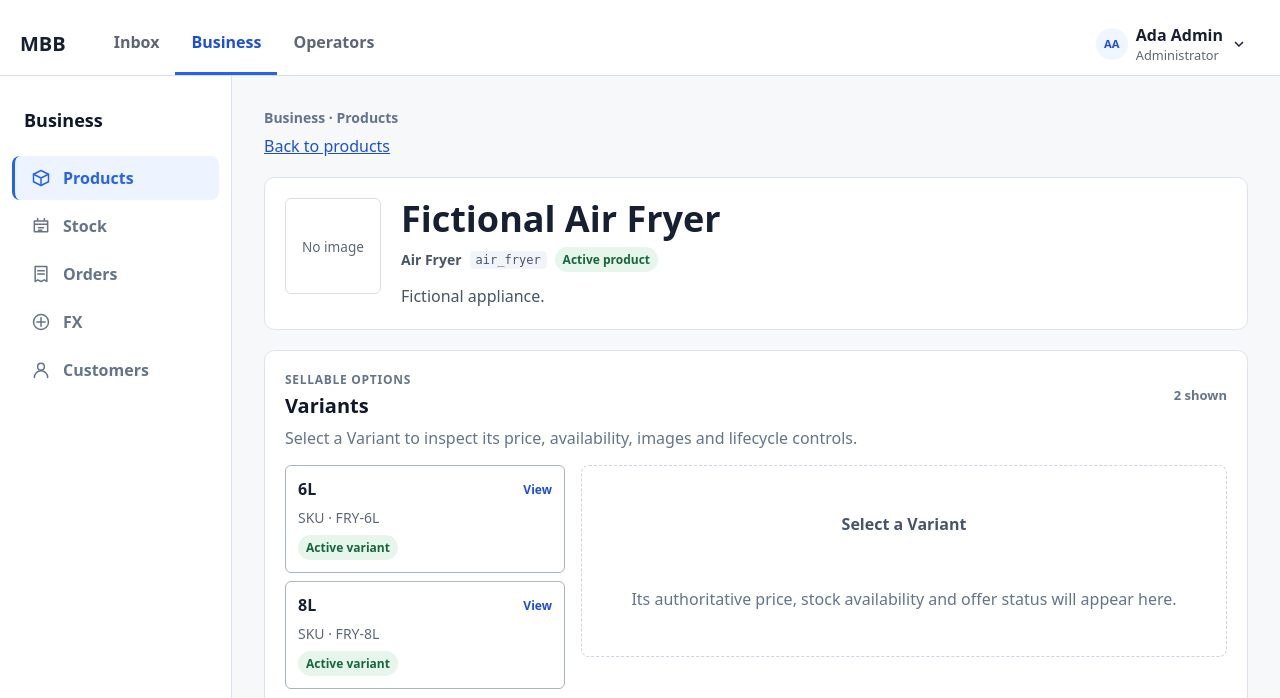
Test case: Product lifecycle controls › Deactivate affects only the selected variant and rereads its Offer
Click the button with aria-label "6L · FRY-6L". click: (339, 518)
box: [285,465,565,573]
(page scrolled)
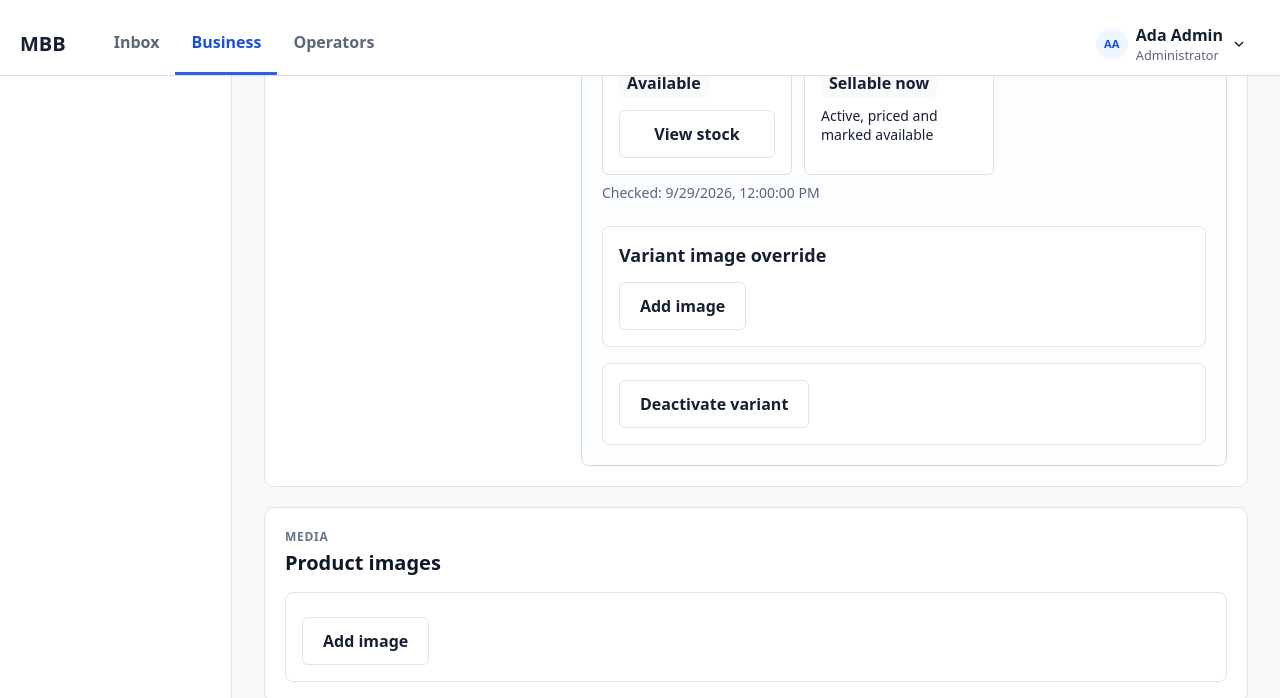
Click the button "Deactivate variant". click: (714, 404)
box: [619,380,809,428]
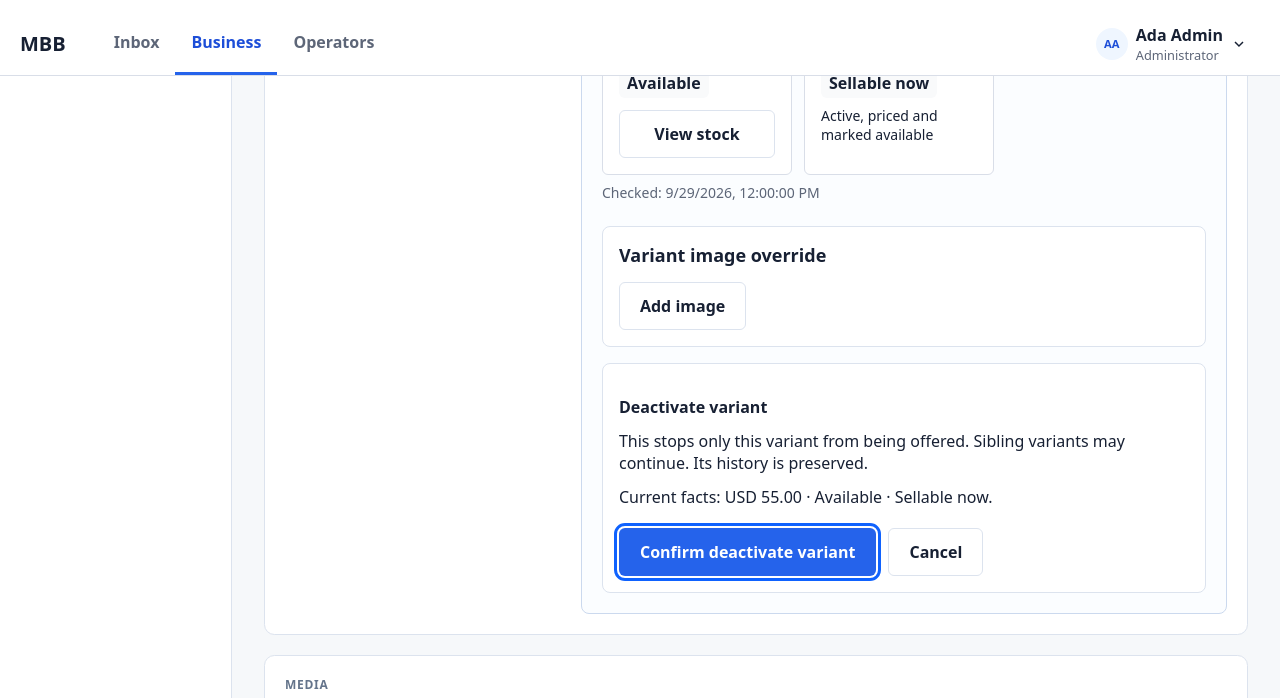
Check: the text "Current facts: USD 55.00 · Available · Sellable now." is shown, box [619,486,992,508]
Click the button "Confirm deactivate variant". click: (748, 552)
box: [619,528,876,576]
(page scrolled)
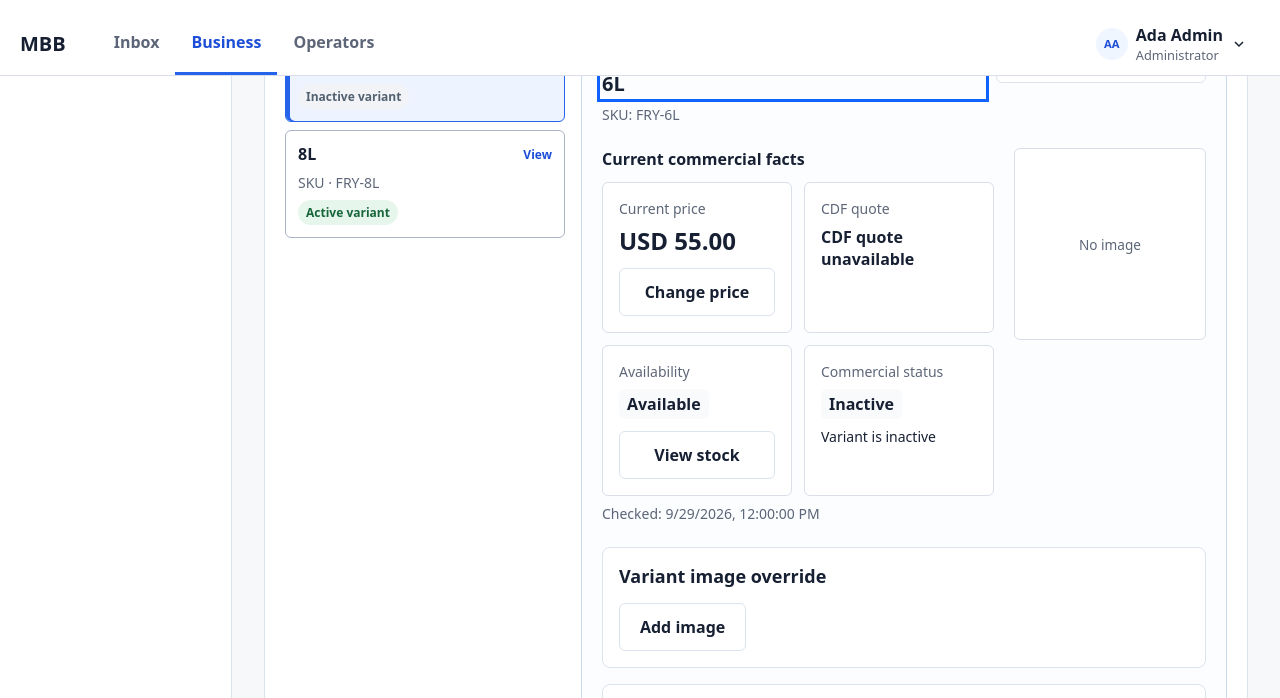
Check: the text "Inactive" is shown, box [821,389,902,419]
